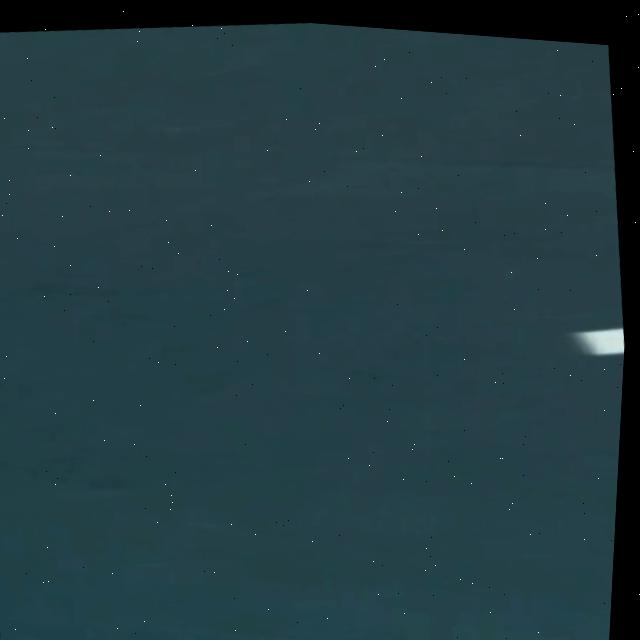center: (571, 328, 624, 354)
